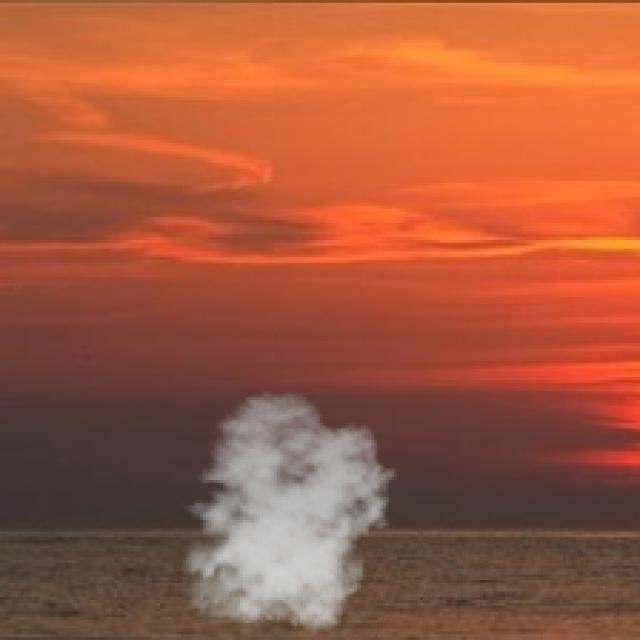smoke: (171, 392, 400, 637)
